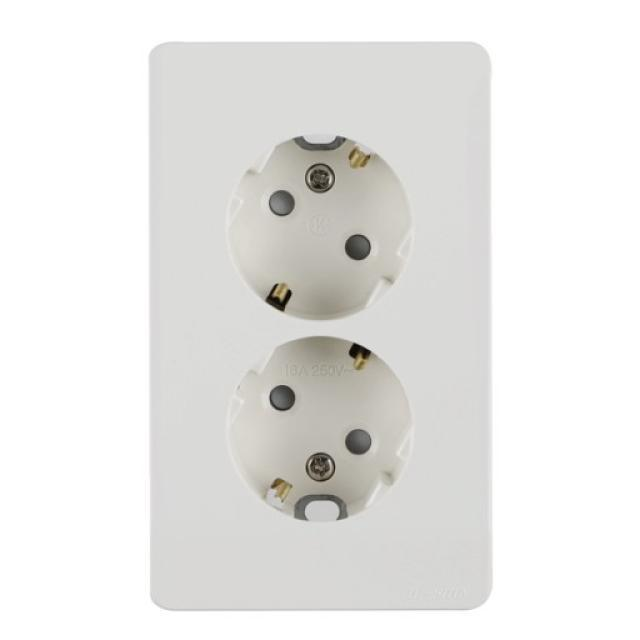typeb: (125, 16, 532, 621)
